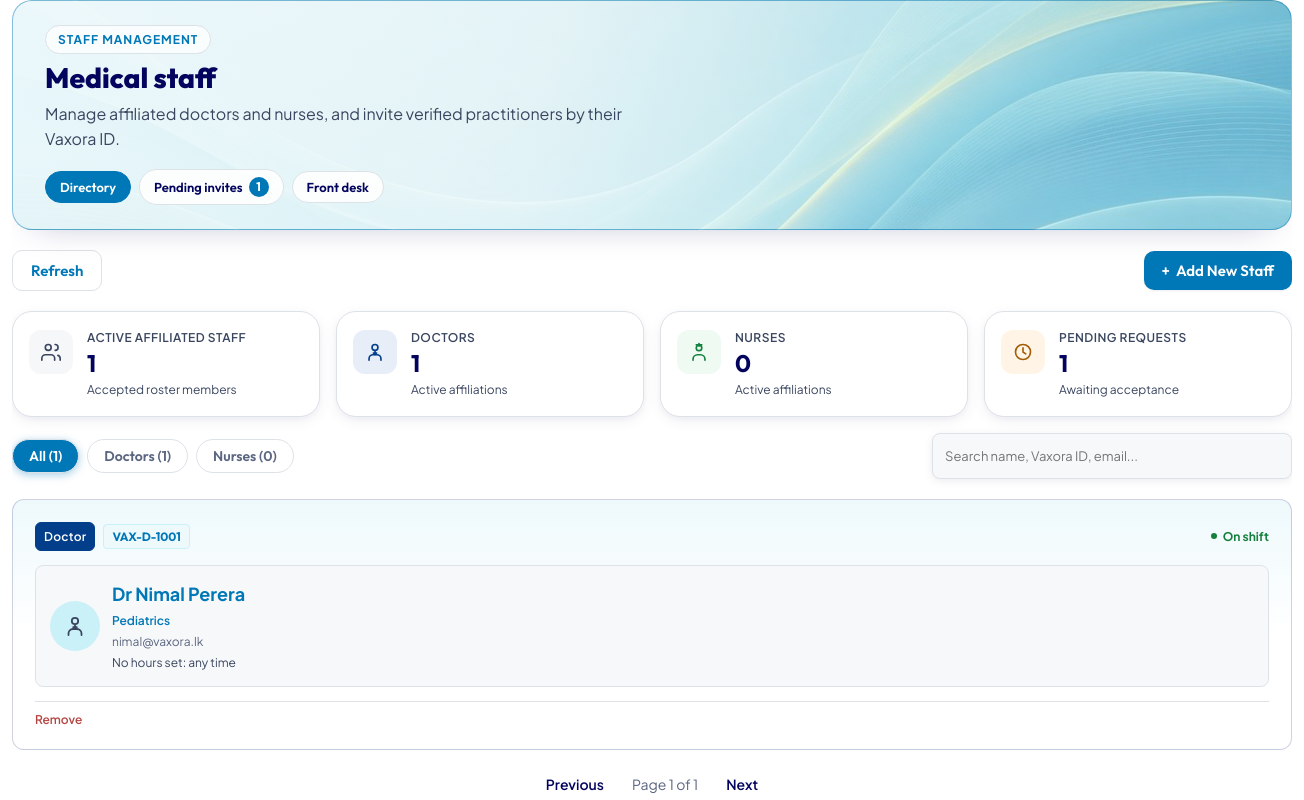
Test: Staff Management - Hospital Staff Directory › renders staff directory hero, metrics, and roster cards
The image size is (1304, 800).
expect the heading "Medical staff" is shown: met, box [45,62,217,94]
expect the button "+ Add New Staff" is shown: met, box [1144,251,1292,290]
Click the tab "Pending invites 1" at (211, 187), box [139,169,284,205]
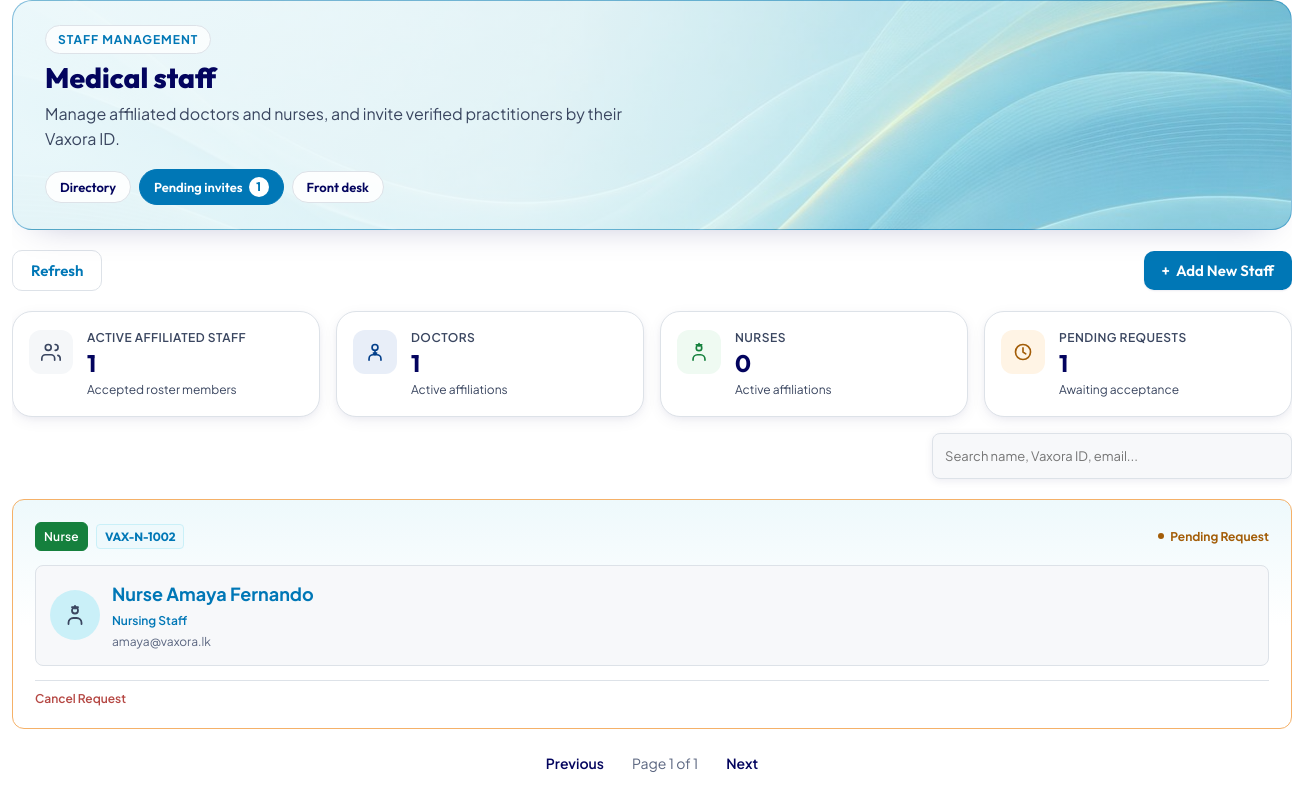
expect the text "Active Affiliated Staff" is shown: met, box [87,330,246,345]
expect the text "Nurse Amaya Fernando" is shown: met, box [112,580,314,609]
expect the text "Pending Request" is shown: met, box [1170,527,1269,546]
